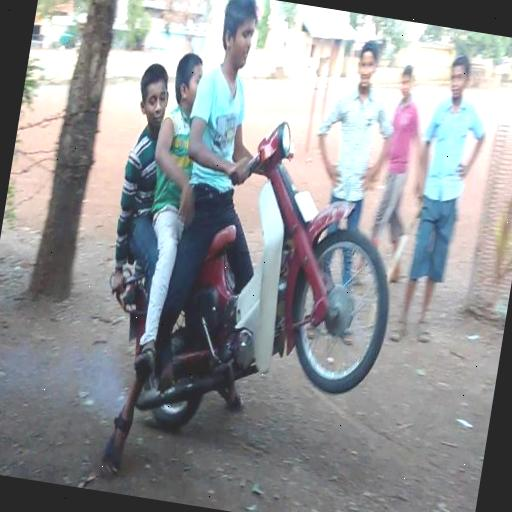no helmet: (200, 0, 278, 140)
triple riding: (66, 10, 441, 497)
